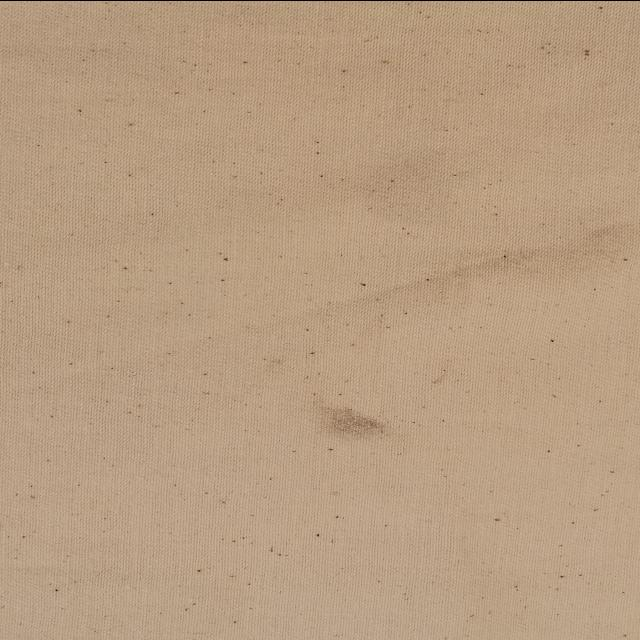taaaches: (304, 388, 408, 448)
